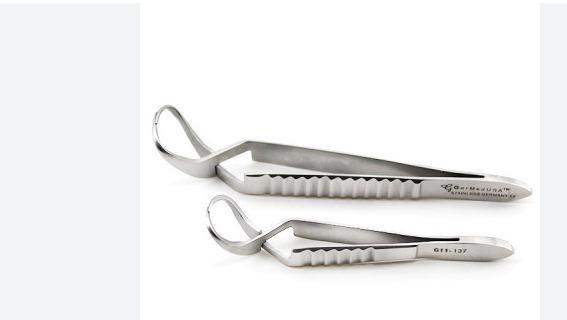Jones Towel Clamp: (151, 101, 533, 204), (200, 191, 520, 267)
